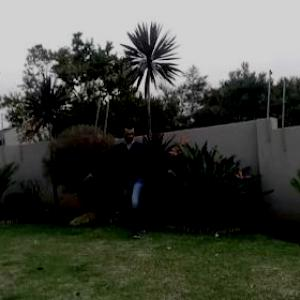land: (84, 113, 186, 243)
